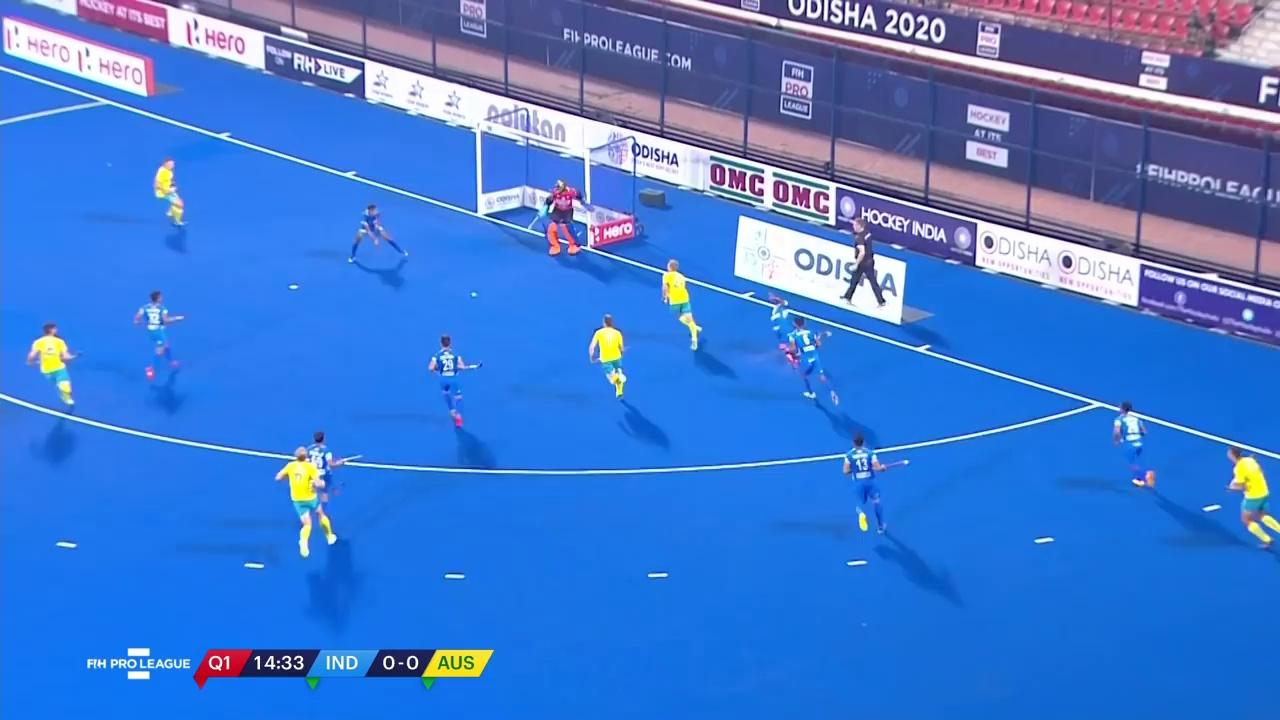ball: (467, 289, 480, 300)
